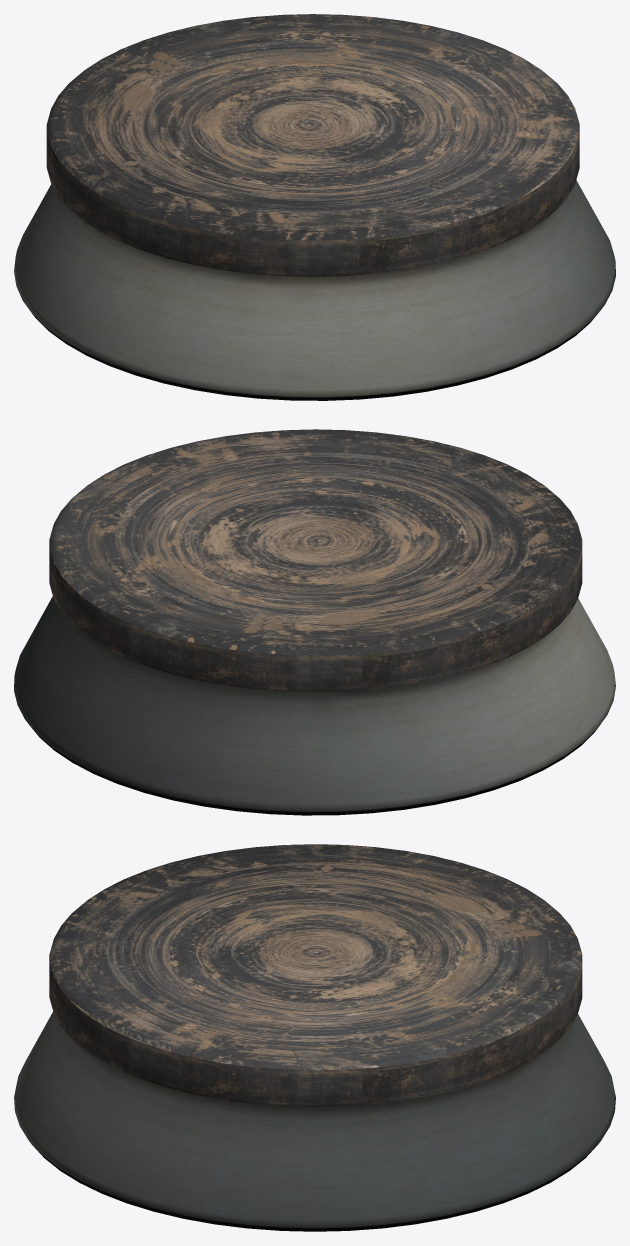
File: nuevo-torno.glb
The picture shows the model from 3 angles, top to bottom: view 1: azimuth 30°, elevation 25°; view 2: azimuth 150°, elevation 25°; view 3: azimuth 270°, elevation 25°; orthographic projection.
Visible parts, largest first — view 1: Mesh_1, Mesh_0; view 2: Mesh_1, Mesh_0; view 3: Mesh_1, Mesh_0.
Part boxes in pixels (box(x1,y1,x2,y2)): Mesh_1: box(46, 14, 579, 276); Mesh_0: box(14, 180, 615, 400); Mesh_1: box(49, 429, 582, 692); Mesh_0: box(14, 596, 615, 815); Mesh_1: box(49, 844, 582, 1106); Mesh_0: box(14, 1011, 615, 1231).
Bounding box in the file's own units: 0.4991 × 0.1398 × 0.4993.
Materials: 2 (2 with a texture image).
